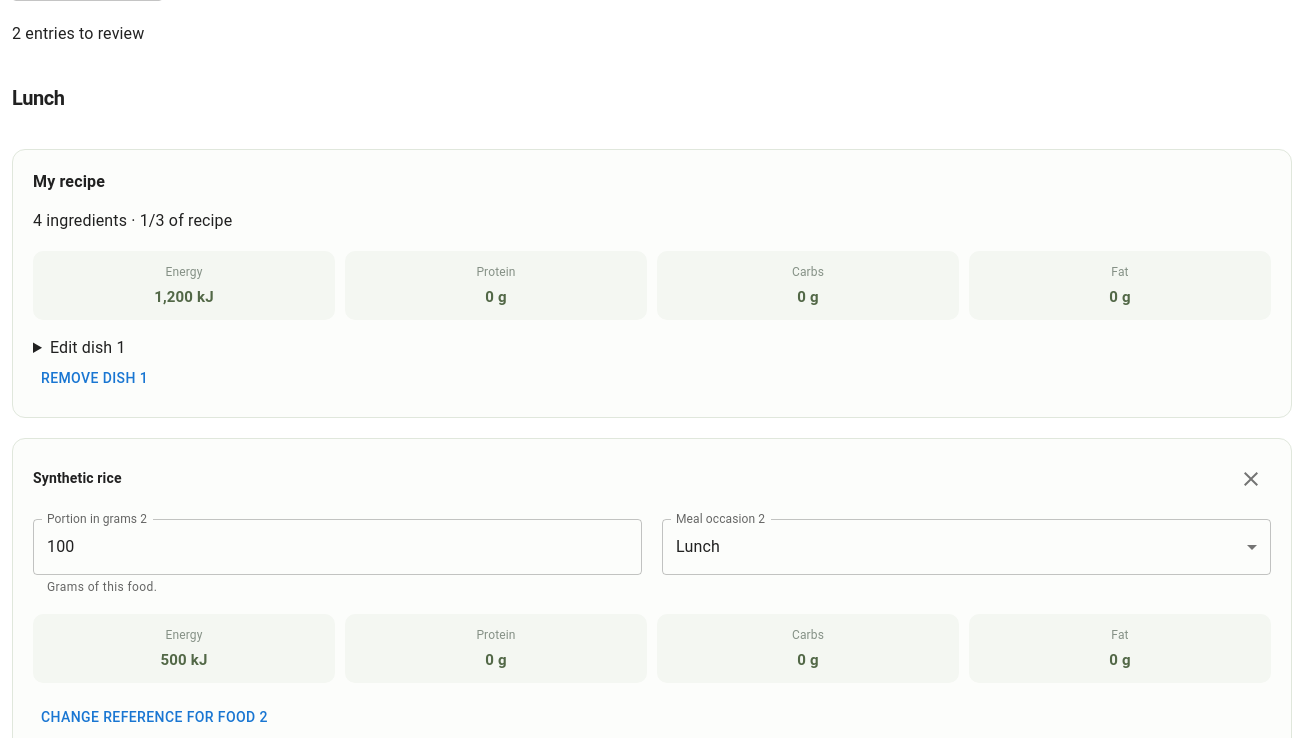
it: UX-F08 complete root review › keeps the original root and grams when reference replacement is cancelled in Review
Click the button "Change reference for food 2".
click(154, 717)  # box [33,699,276,736]
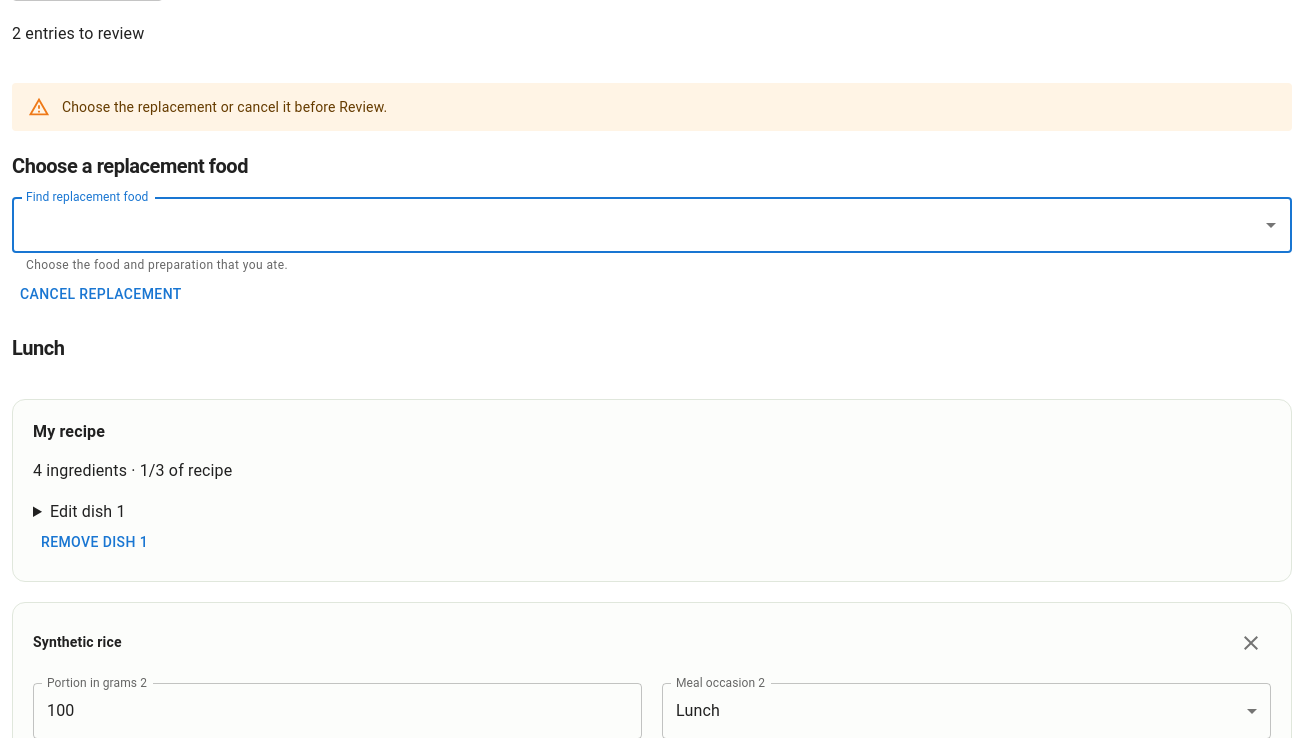
Click the button "Cancel replacement".
click(101, 295)  # box [12,276,190,313]
(page scrolled)
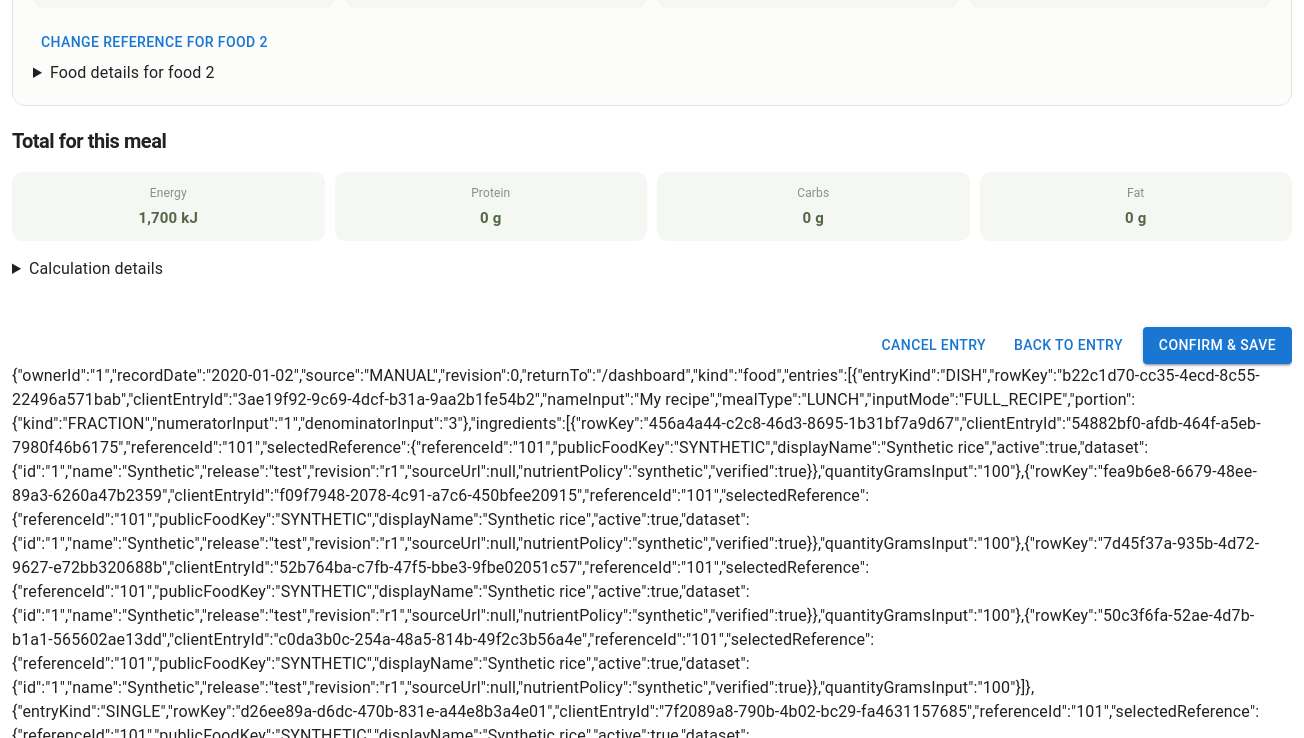
expect the button "Confirm & save" is enabled: met, box [1143,327,1292,364]
